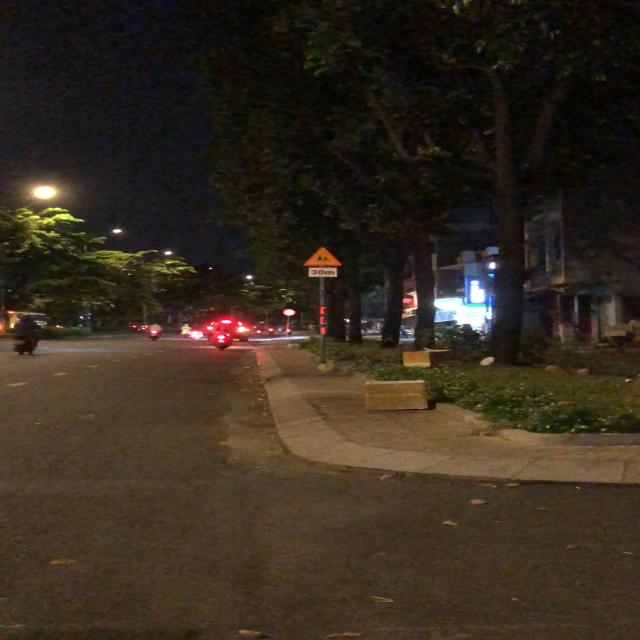Bien bao tre em: (303, 246, 341, 266)
